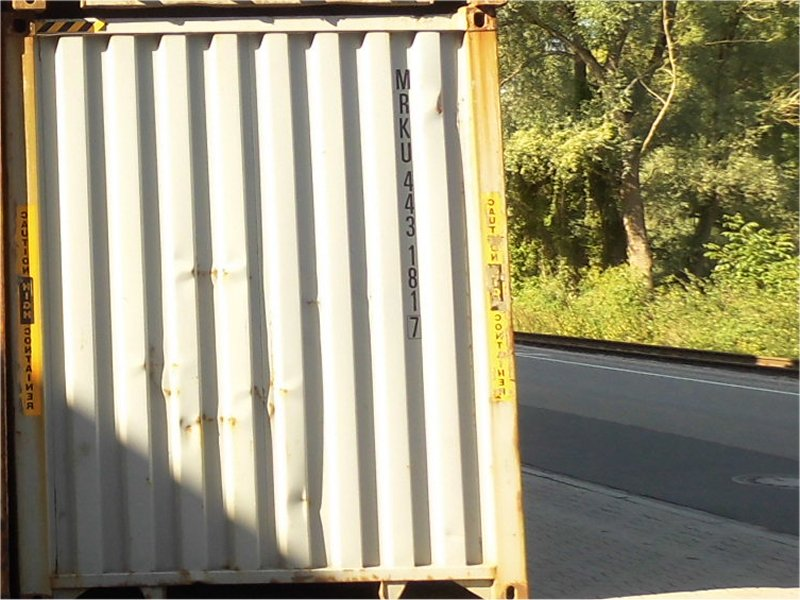container_no_door: (4, 17, 530, 600)
